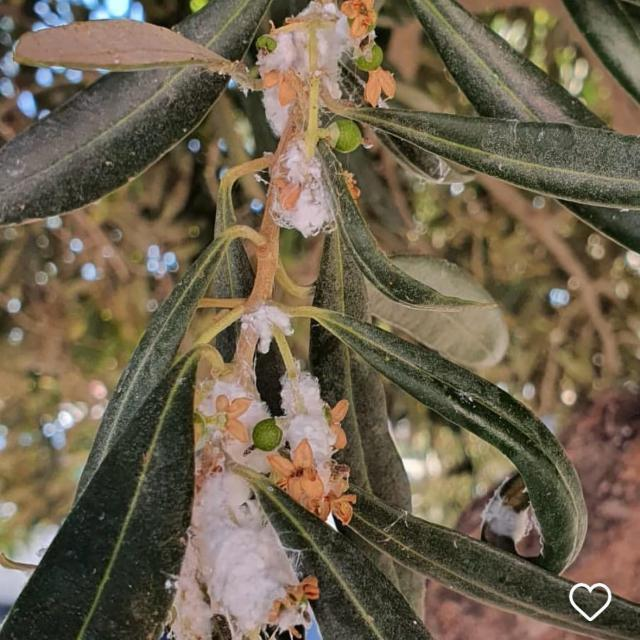Psyllid: (170, 302, 356, 640), (256, 0, 396, 237), (479, 472, 544, 562)
